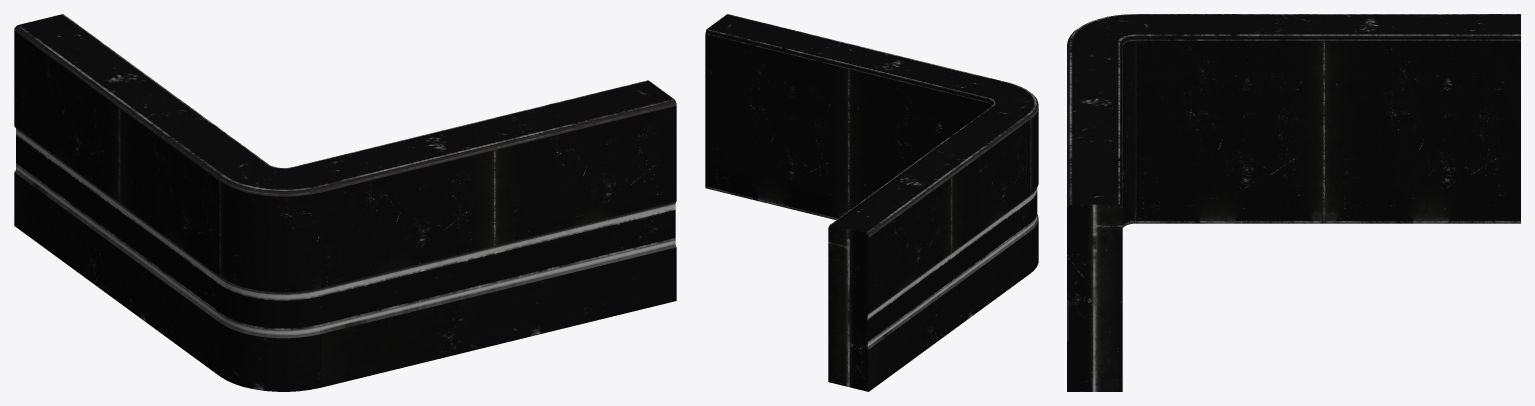
File: SM_Parapet_Corner_A.FBX
The picture shows the model from 3 angles, left to right: view 1: azimuth 30°, elevation 25°; view 2: azimuth 150°, elevation 25°; view 3: azimuth 270°, elevation 25°; orthographic projection. The views are drawn at different scales.
Visible parts, largest first — view 1: SM_Parapet_Corner_A; view 2: SM_Parapet_Corner_A; view 3: SM_Parapet_Corner_A.
Part boxes in pixels (box(x1,y1,x2,y2)): SM_Parapet_Corner_A: box(14, 14, 676, 391); SM_Parapet_Corner_A: box(705, 14, 1038, 391); SM_Parapet_Corner_A: box(1067, 14, 1520, 391).
Bounding box in the file's own units: 450 × 205 × 450.
1 material, 1 textured.
